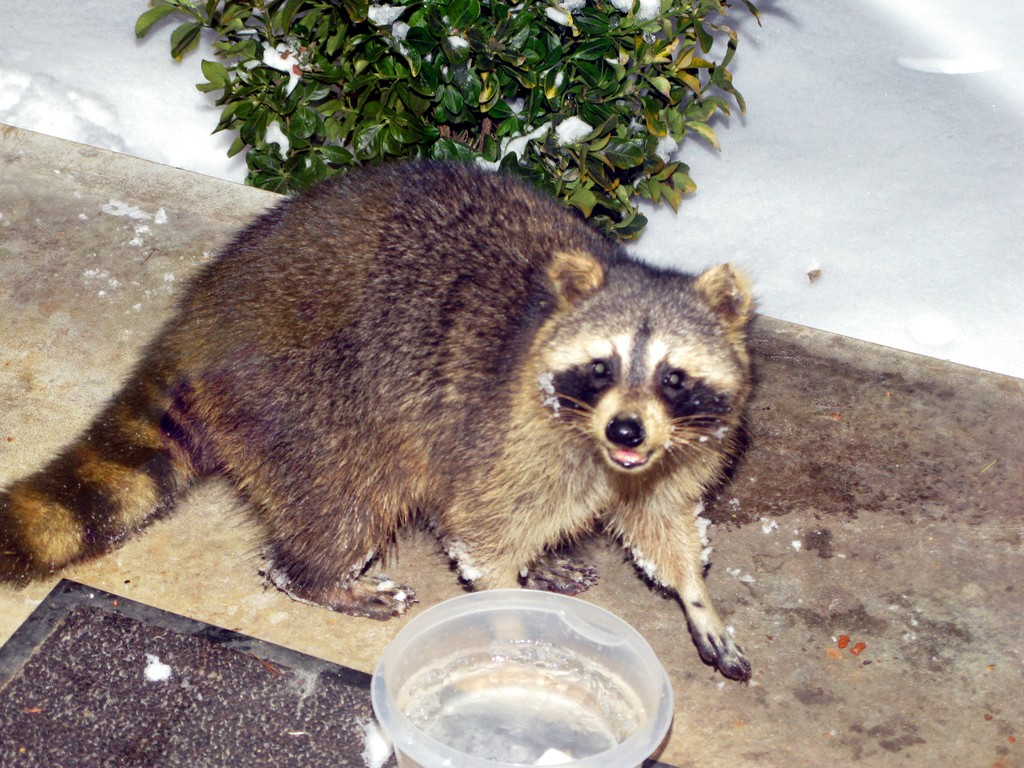raccoon: (1, 159, 750, 682)
